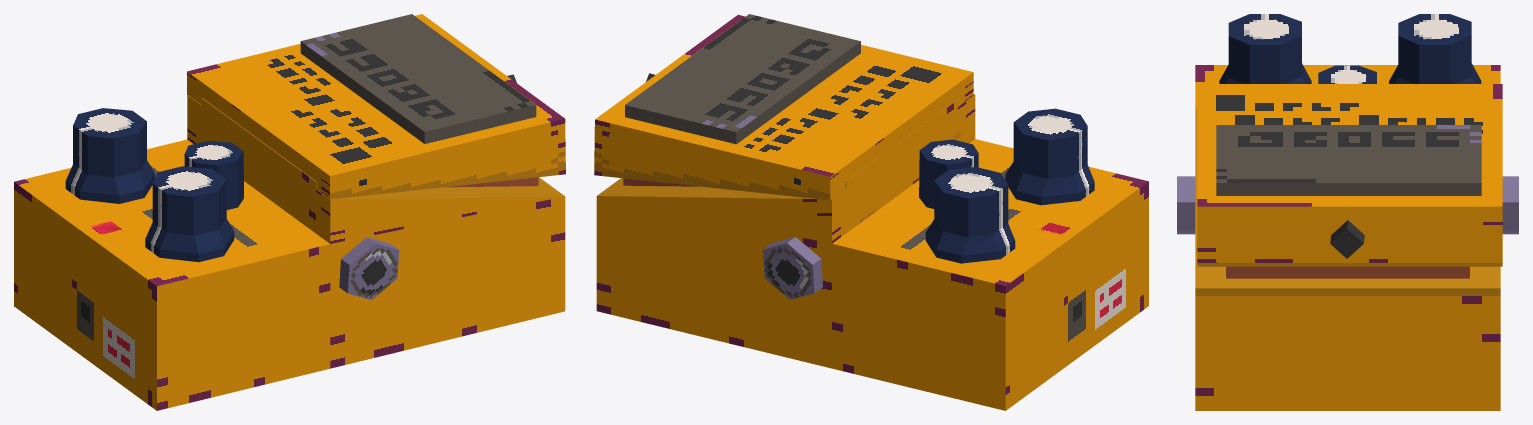
File: boss_sd1_merged.gltf
3 renders of one model, left to right at view 1: azimuth 30°, elevation 25°; view 2: azimuth 150°, elevation 25°; view 3: azimuth 270°, elevation 25°, orthographic. The views are drawn at different scales.
Bounding box in the file's own units: 4.32 × 1.97 × 2.8.
1 material, 1 textured.
